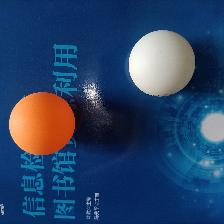WhiteBall: (127, 29, 195, 96)
YellowBall: (8, 91, 76, 154)
